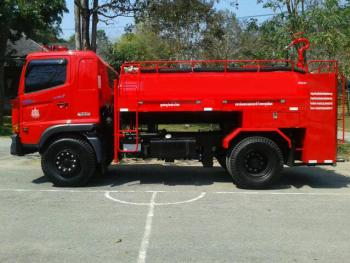truck: (11, 42, 340, 188)
